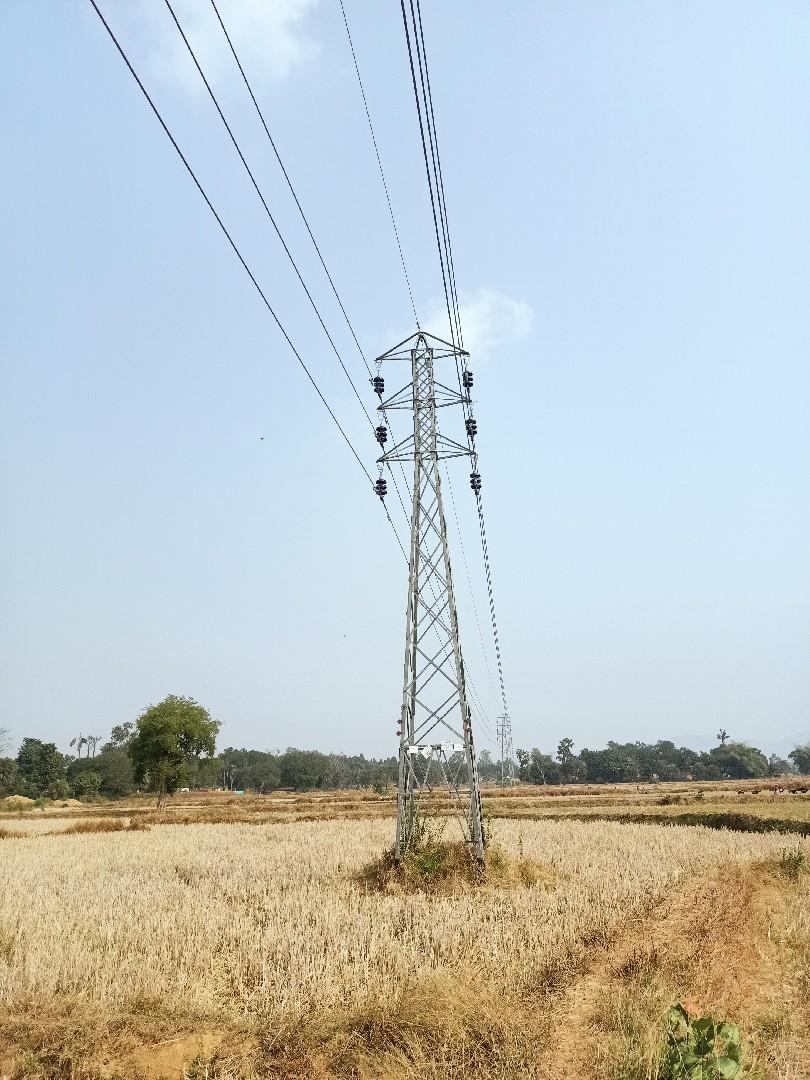GSM Antenna: (368, 326, 488, 814)
